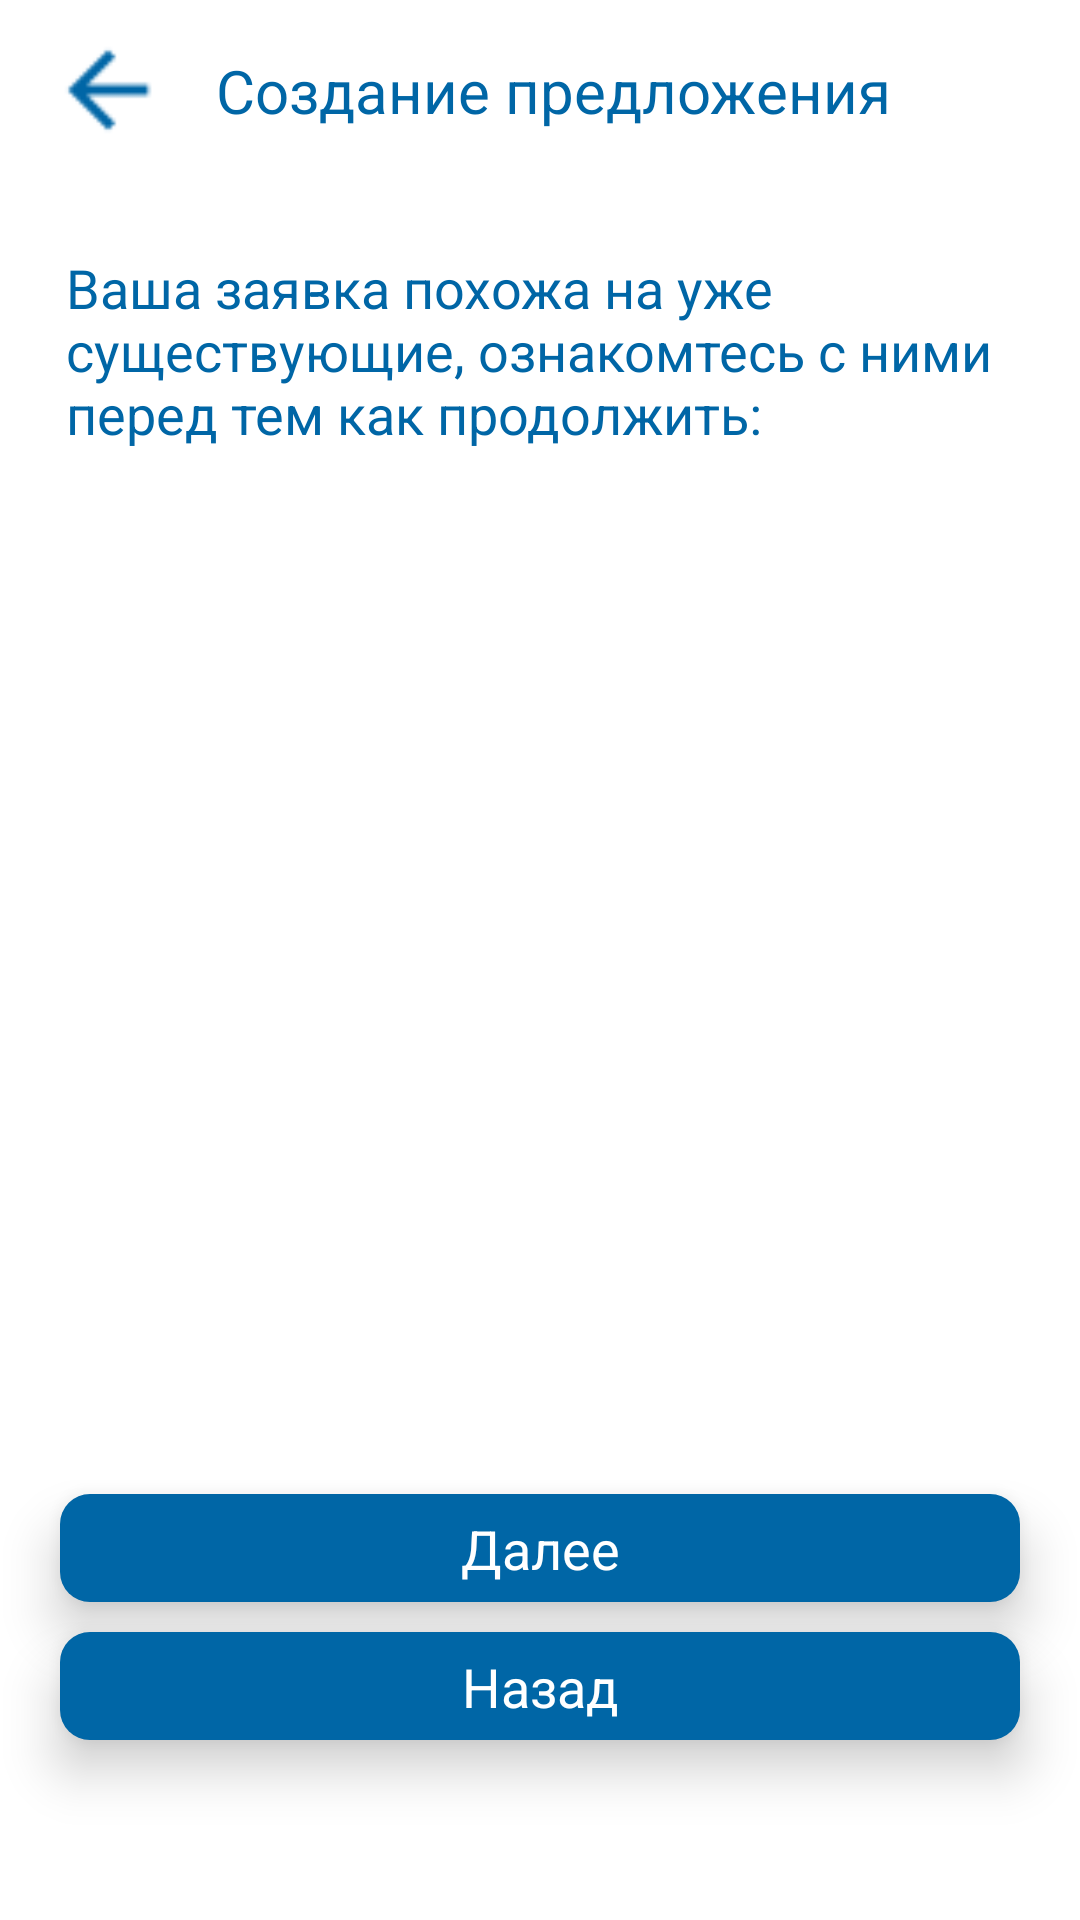

Screen size 1080px×1920px. Icon name, then its center in pixels as [x,y]:
arrow back: [109,90]
